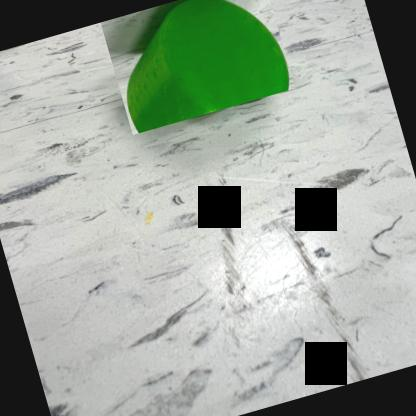green cylinder: (100, 0, 295, 135)
